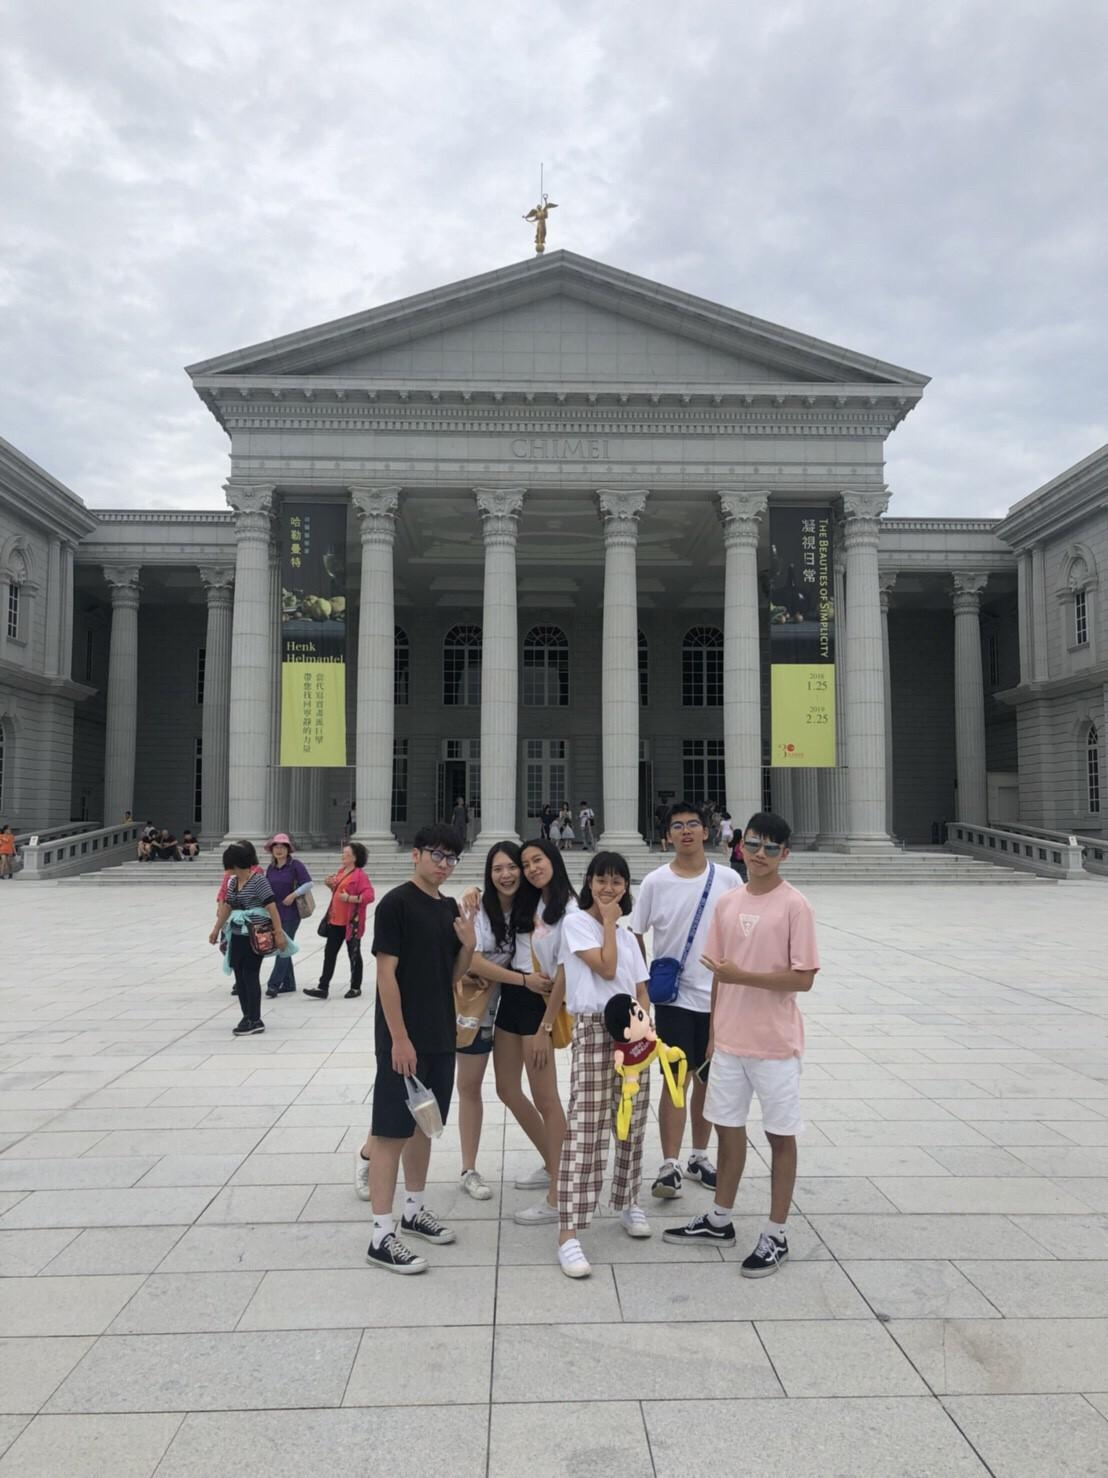people: (374, 823, 464, 1276), (712, 814, 793, 1271), (569, 854, 640, 1271), (640, 807, 714, 1200), (512, 833, 576, 1231), (462, 843, 519, 1200), (212, 840, 276, 1031), (317, 835, 369, 1004), (259, 828, 307, 1000), (131, 819, 200, 864), (533, 807, 605, 831)
